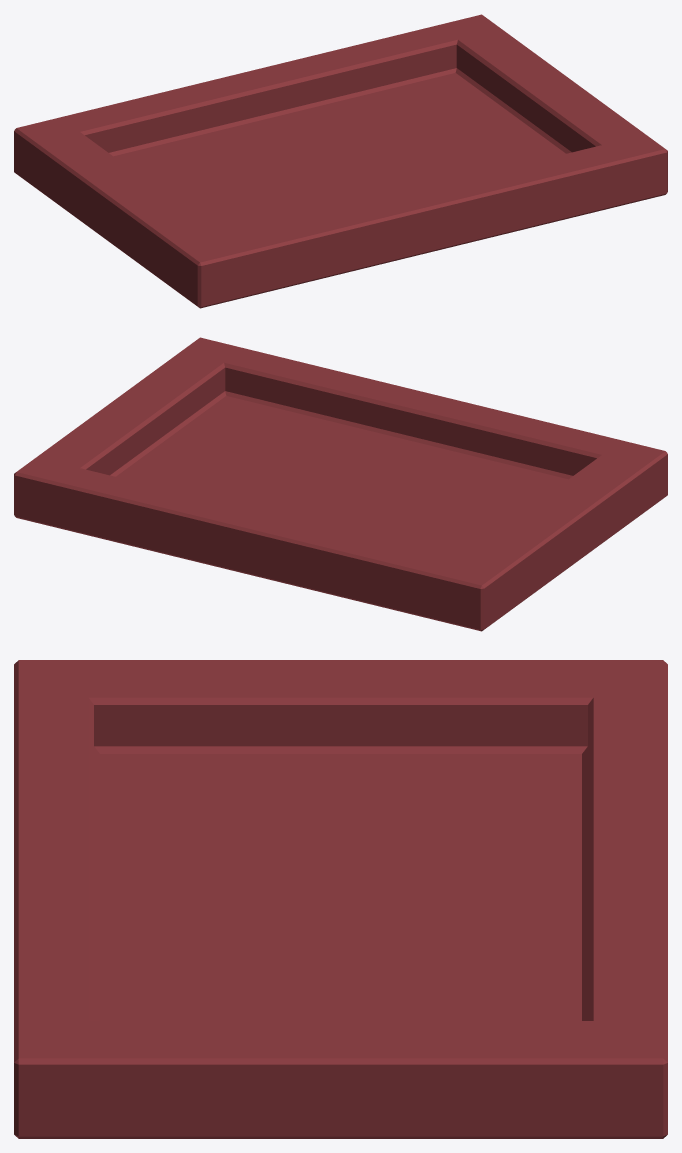
The model's file is fbx_oldbuilding_boundary_r1.fbx.
The picture shows the model from 3 angles, top to bottom: view 1: azimuth 30°, elevation 25°; view 2: azimuth 150°, elevation 25°; view 3: azimuth 270°, elevation 25°; orthographic projection. The views are drawn at different scales.
Parts seen in each view (by area): view 1: fbx_oldbuilding_boundary_r1; view 2: fbx_oldbuilding_boundary_r1; view 3: fbx_oldbuilding_boundary_r1.
Part boxes in pixels (x1,y1,x2,y2): fbx_oldbuilding_boundary_r1: (14,14,667,308); fbx_oldbuilding_boundary_r1: (14,337,667,631); fbx_oldbuilding_boundary_r1: (14,660,667,1138).
Size of the model in its own units: 6 by 0.5598 by 4.12.
1 material, 1 textured.
